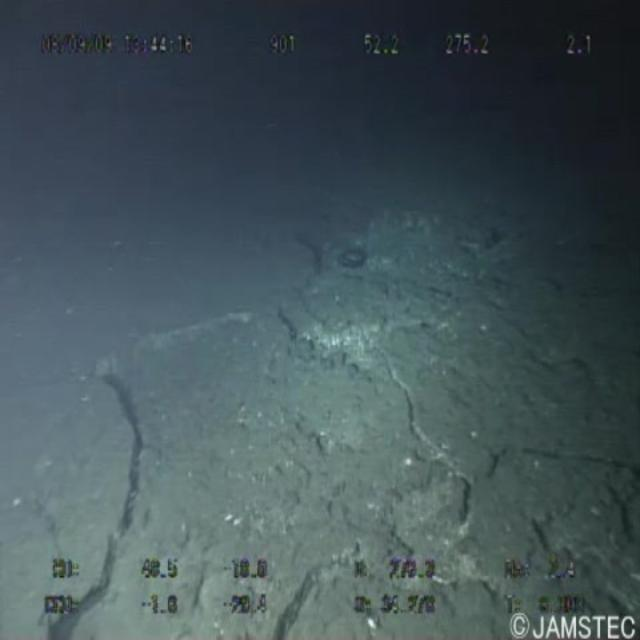Rubber: (330, 234, 386, 288)
